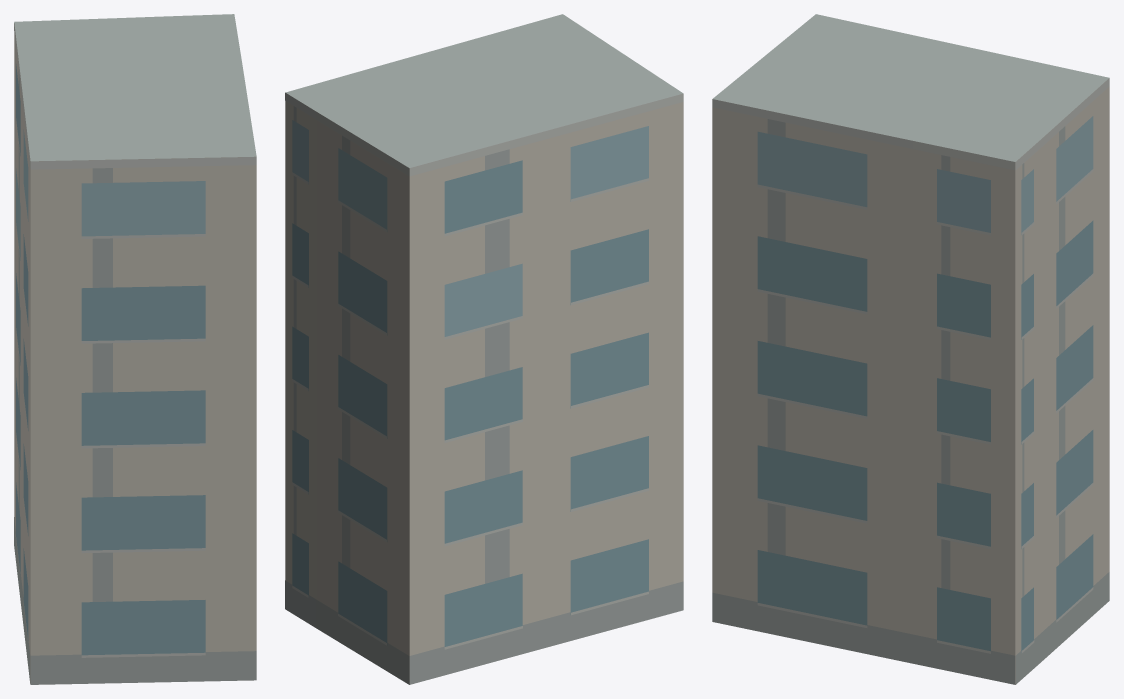
The model's file is survey-upis-32597509.glb.
The picture shows the model from 3 angles, left to right: view 1: azimuth 30°, elevation 25°; view 2: azimuth 150°, elevation 25°; view 3: azimuth 270°, elevation 25°; orthographic projection.
Parts seen in each view (by area): view 1: survey-upis-32597509.tmp; view 2: survey-upis-32597509.tmp; view 3: survey-upis-32597509.tmp.
Part boxes in pixels (box(x1,y1,x2,y2)): survey-upis-32597509.tmp: box(14, 14, 256, 684); survey-upis-32597509.tmp: box(285, 14, 683, 684); survey-upis-32597509.tmp: box(712, 14, 1109, 684).
Bounding box in the file's own units: 9.27 × 15.25 × 10.51.
